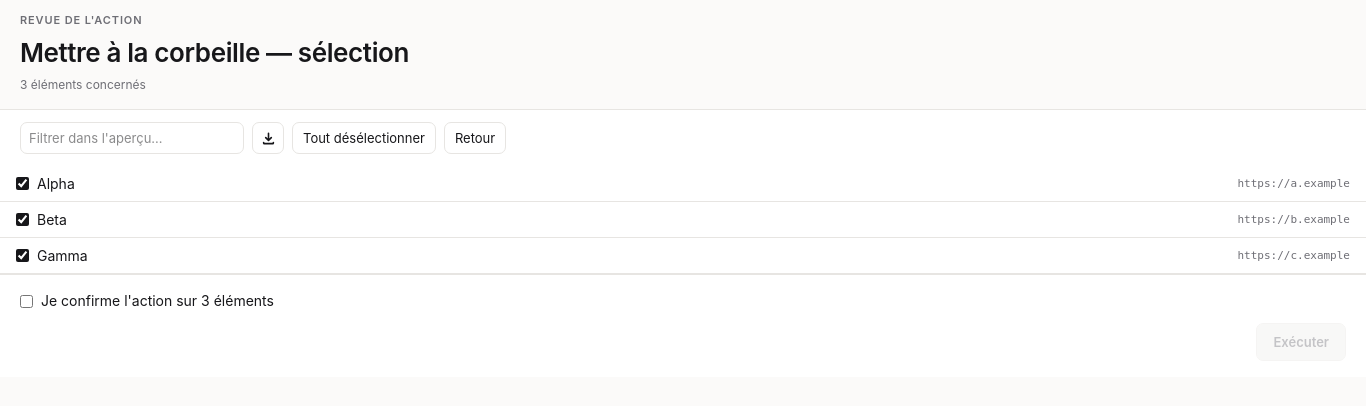
Test: ReviewPage — rulings › échec d'action : erreur inline role=alert, pas de retour (R8P-1)
What coordinates should you click on to do the following:
click the checkbox labelled "Je confirme l'action sur 3 éléments"
I would click on:
 (26, 301)
Its box is [20,294,33,308].
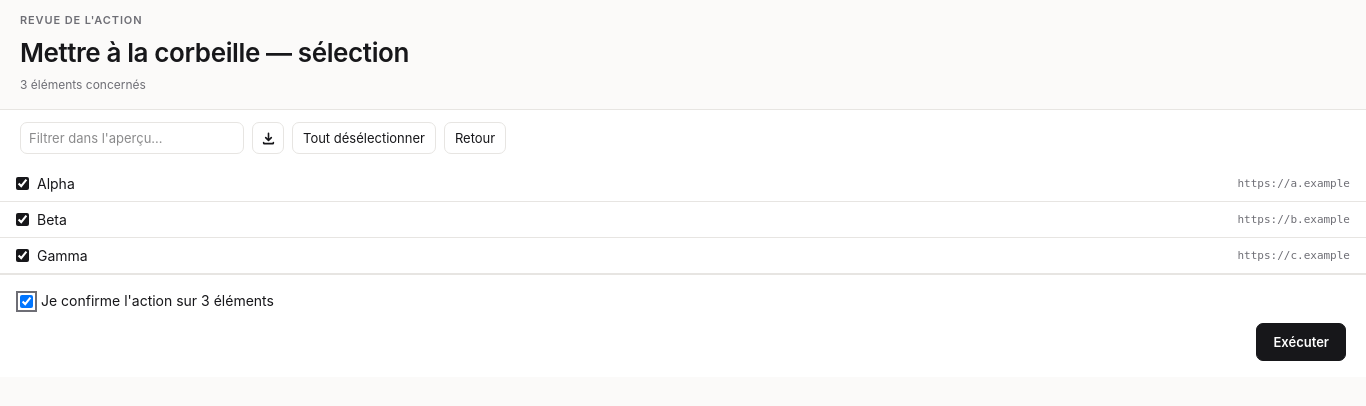
What coordinates should you click on to do the following:
click the button "Exécuter"
I would click on:
 (1301, 342)
Its box is [1256,323,1346,361].
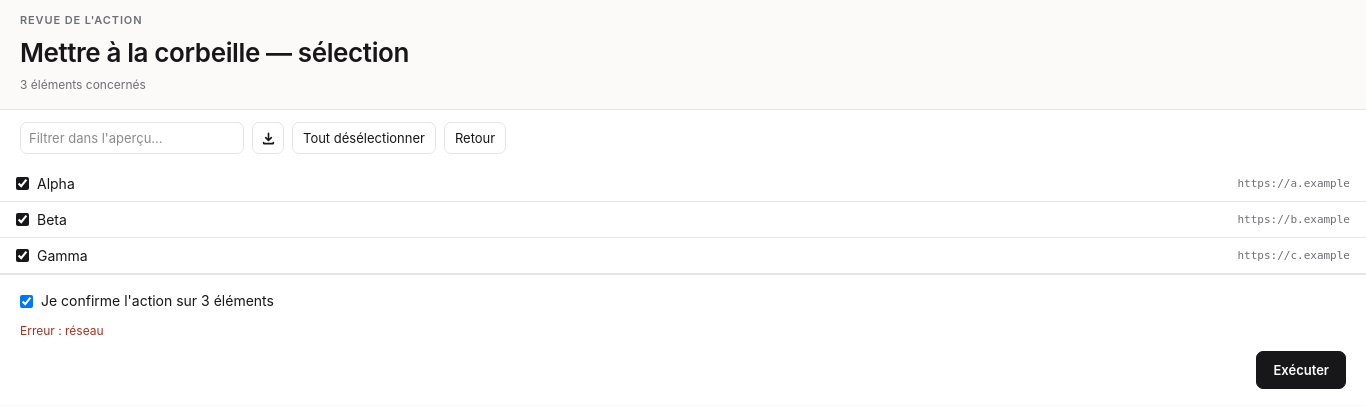
Now the message reads "Erreur : réseau", box [20,323,104,338]
